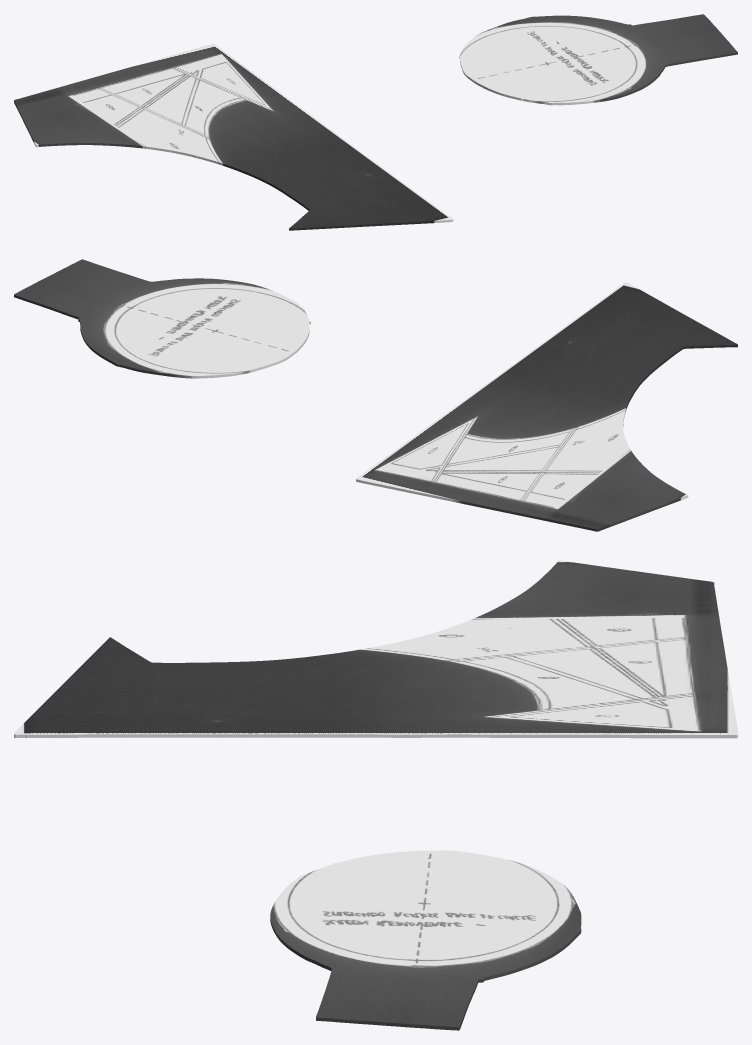
File: bigflat-video.fbx
3 renders of one model, top to bottom at view 1: azimuth 30°, elevation 25°; view 2: azimuth 150°, elevation 25°; view 3: azimuth 270°, elevation 25°, orthographic. The views are drawn at different scales.
Visible parts, largest first — view 1: path3778, path3756; view 2: path3778, path3756; view 3: path3778, path3756.
Boxes of the visible parts, box(x1,y1,x2,y2) form: path3778: box(14, 43, 453, 230); path3756: box(459, 14, 737, 105); path3778: box(356, 282, 737, 531); path3756: box(14, 259, 310, 378); path3778: box(14, 560, 737, 738); path3756: box(270, 850, 581, 1030).
Size of the model in its own units: 30.23 by 0.1 by 19.82.
